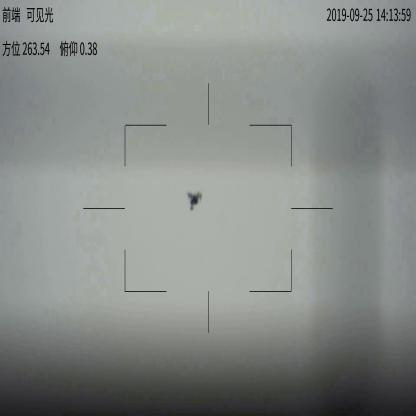uav: (186, 189, 204, 213)
